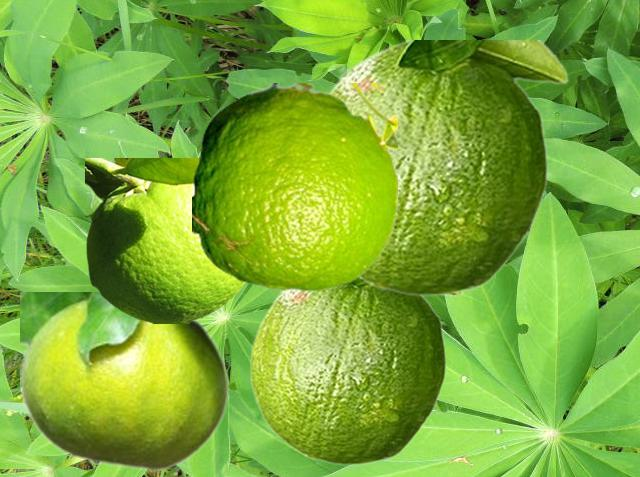dalandan: (327, 40, 568, 295), (192, 83, 396, 290), (249, 279, 462, 464), (20, 292, 229, 471), (85, 158, 245, 322)
